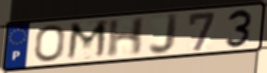3: (224, 7, 254, 49)
7: (187, 10, 218, 52)
H: (105, 16, 148, 60)
J: (147, 13, 181, 57)
M: (64, 18, 110, 63)
O: (34, 23, 67, 63)
